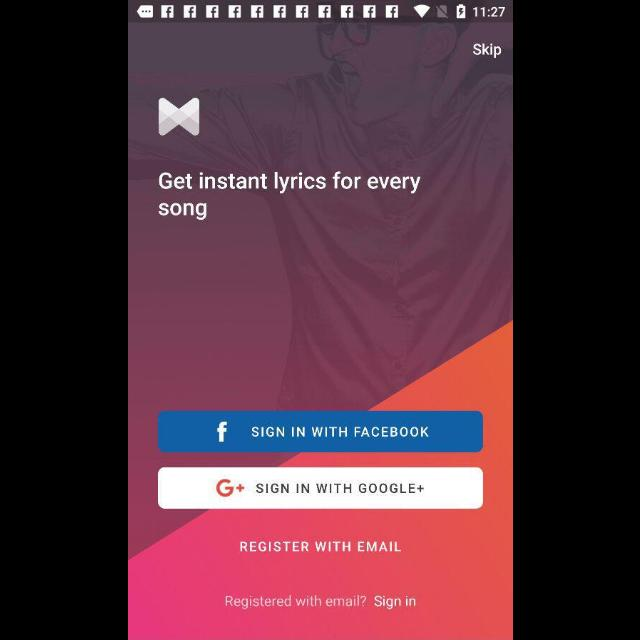backgroundimage: (128, 24, 512, 640)
image: (158, 98, 200, 136)
text: (158, 172, 420, 220), (240, 541, 400, 553), (373, 594, 415, 610), (472, 44, 502, 58)
textbutton: (157, 467, 483, 509), (158, 411, 482, 453), (224, 594, 366, 610)
uppertaskbar: (128, 1, 512, 23)
